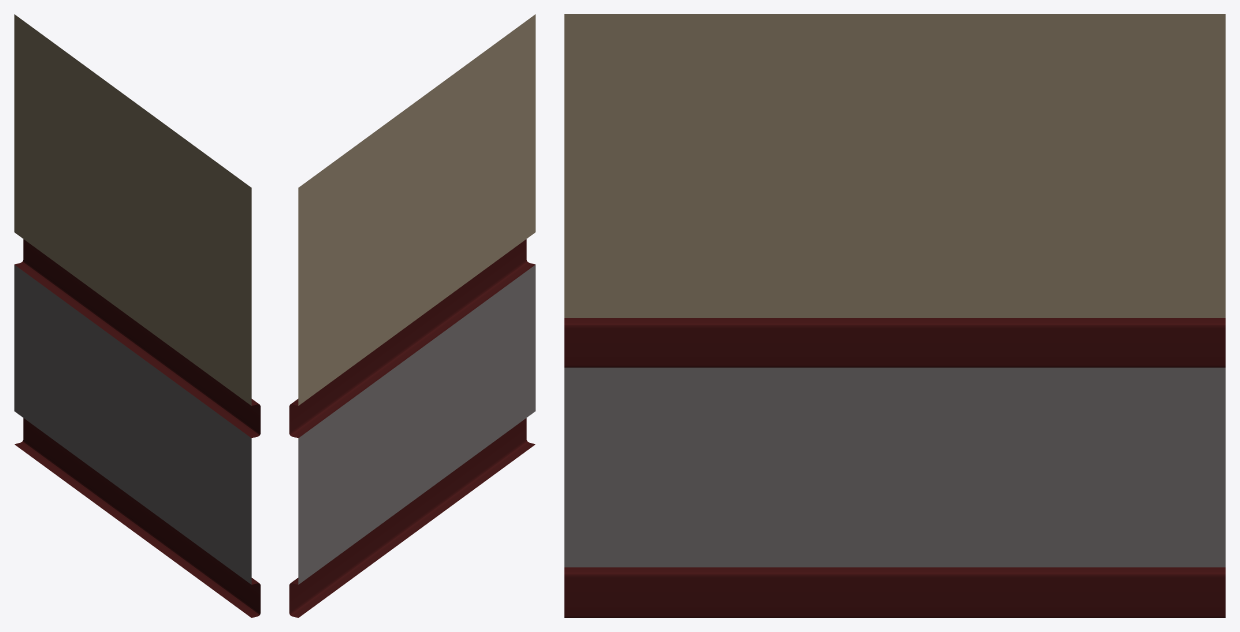
File: Wall.fbx
3 views of the same model, side by side, from view 1: azimuth 30°, elevation 25°; view 2: azimuth 150°, elevation 25°; view 3: azimuth 270°, elevation 25° (orthographic). The views are drawn at different scales.
Visible parts, largest first — view 1: Wall; view 2: Wall; view 3: Wall.
Part boxes in pixels (x1,y1,x2,y2): Wall: (14,14,260,617); Wall: (289,14,535,617); Wall: (564,14,1225,617).
Size of the model in its own units: 0.315 by 13.96 by 13.96.
